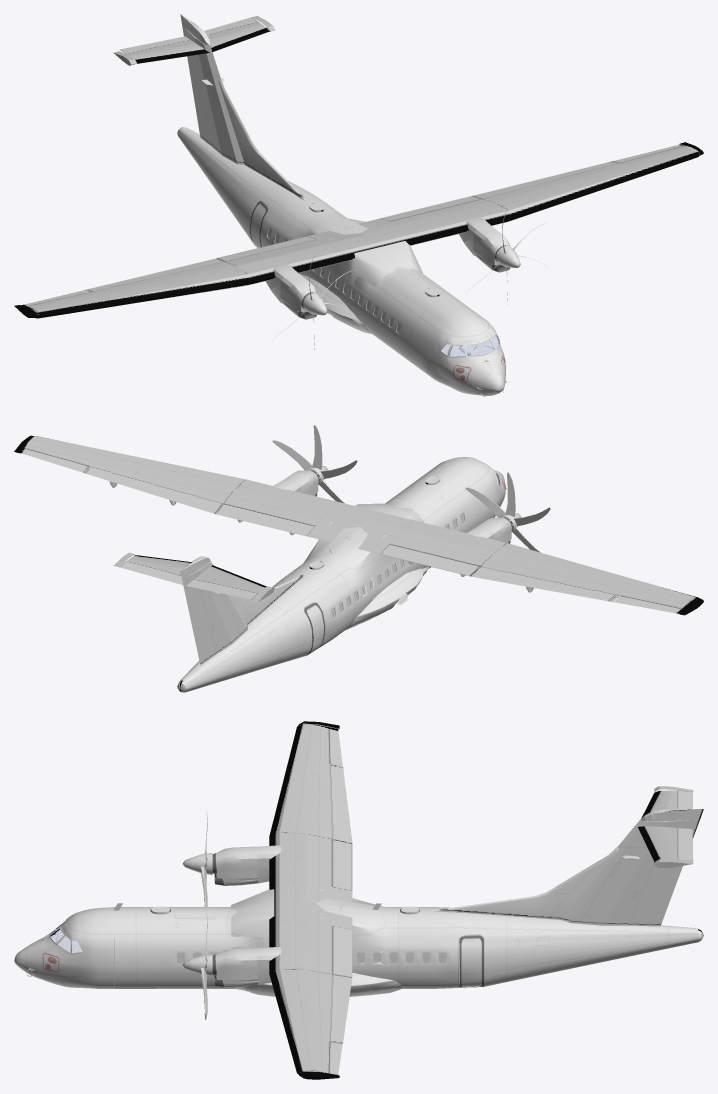
3 views of the same model, one above another, from view 1: azimuth 30°, elevation 25°; view 2: azimuth 150°, elevation 25°; view 3: azimuth 270°, elevation 25° (orthographic). The views are drawn at different scales.
Visible parts, largest first — view 1: fuselage.005, Wing.001, W05.207, W05.206, wavefront, VStab, Rudder, Elevator, Misc.028, fuselage, Misc.023, Misc.027 (+8 smaller); view 2: fuselage.005, Wing.001, W05.206, W05.207, Rudder, Elevator, Flap1, Flap4, fuselage, Flap2, Flap3, Prop2 (+11 smaller); view 3: fuselage.005, Wing.001, W05.207, W05.206, Rudder, VStab, CargoDr, Misc.028, wavefront, Misc.023, Misc.027, Flap4 (+11 smaller).
Part boxes in pixels (box(x1,y1,x2,y2)): fuselage.005: box(177, 127, 507, 395); Wing.001: box(214, 195, 511, 285); W05.207: box(26, 259, 251, 318); W05.206: box(474, 144, 698, 221); wavefront: box(342, 241, 422, 297); VStab: box(185, 28, 244, 164); Rudder: box(182, 26, 221, 154); Elevator: box(119, 17, 260, 55); Misc.028: box(218, 79, 262, 173); fuselage: box(300, 274, 371, 333); Misc.023: box(280, 273, 316, 312); Misc.027: box(473, 226, 510, 265); fuselage.005: box(177, 457, 505, 692); Wing.001: box(214, 479, 506, 576); W05.206: box(20, 436, 246, 513); W05.207: box(474, 543, 695, 608); Rudder: box(182, 569, 232, 665); Elevator: box(119, 559, 260, 599); Flap1: box(84, 466, 221, 513); Flap4: box(475, 567, 618, 601); fuselage: box(344, 567, 429, 630); Flap2: box(215, 503, 315, 536); Flap3: box(382, 544, 481, 576); Prop2: box(465, 472, 550, 552); fuselage.005: box(14, 889, 703, 988); Wing.001: box(269, 831, 352, 977); W05.207: box(269, 724, 351, 841); W05.206: box(269, 968, 351, 1073); Rudder: box(603, 820, 699, 926); VStab: box(561, 820, 696, 925); CargoDr: box(114, 938, 156, 988); Misc.028: box(529, 847, 618, 919); wavefront: box(231, 889, 274, 949); Misc.023: box(212, 846, 257, 878); Misc.027: box(212, 948, 257, 980); Flap4: box(329, 763, 351, 840).
Bounding box in the file's own units: 27.69 × 6.59 × 22.77.
6 materials, 4 textured.
